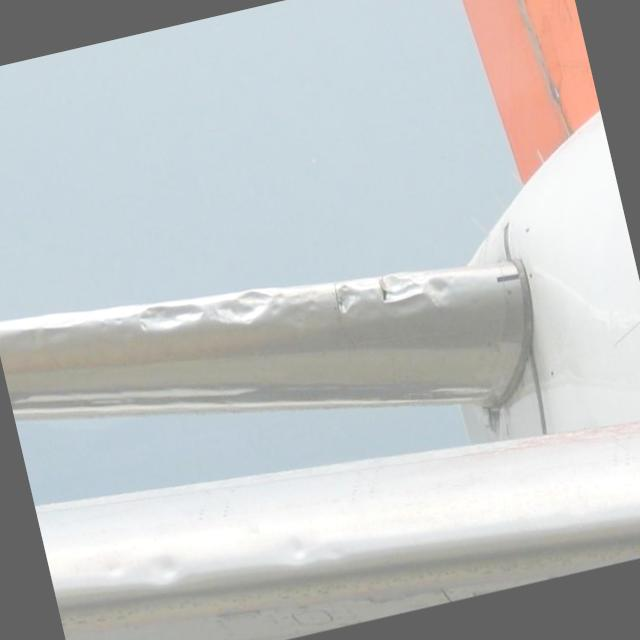dent: (334, 258, 454, 330), (204, 276, 276, 337), (136, 294, 208, 342)
